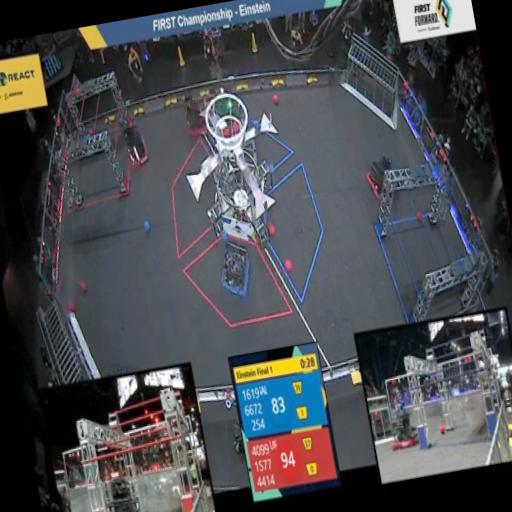robot: (209, 232, 258, 306), (358, 144, 402, 208), (118, 106, 158, 176), (174, 82, 214, 140)
